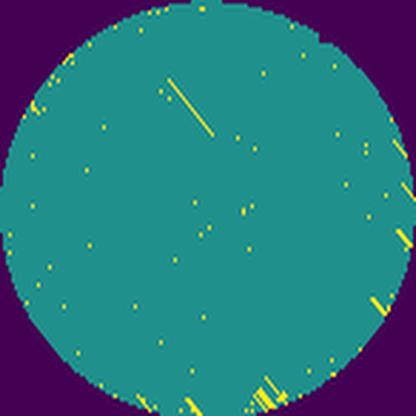Scratch: (162, 75, 217, 142)
